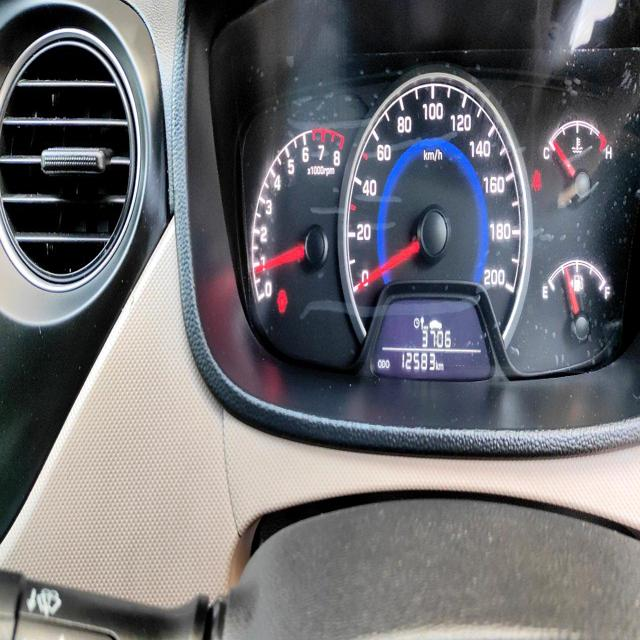odometer: (395, 346, 439, 378)
